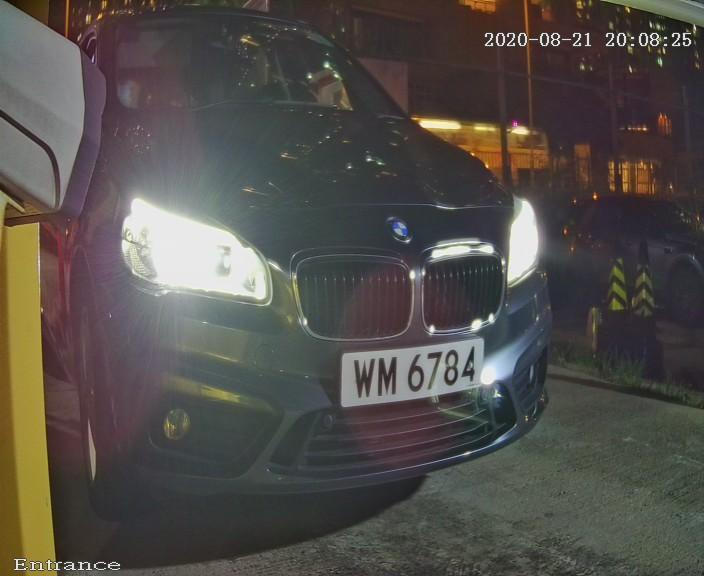Car: (26, 19, 595, 525)
License Plate: (334, 332, 494, 415)
